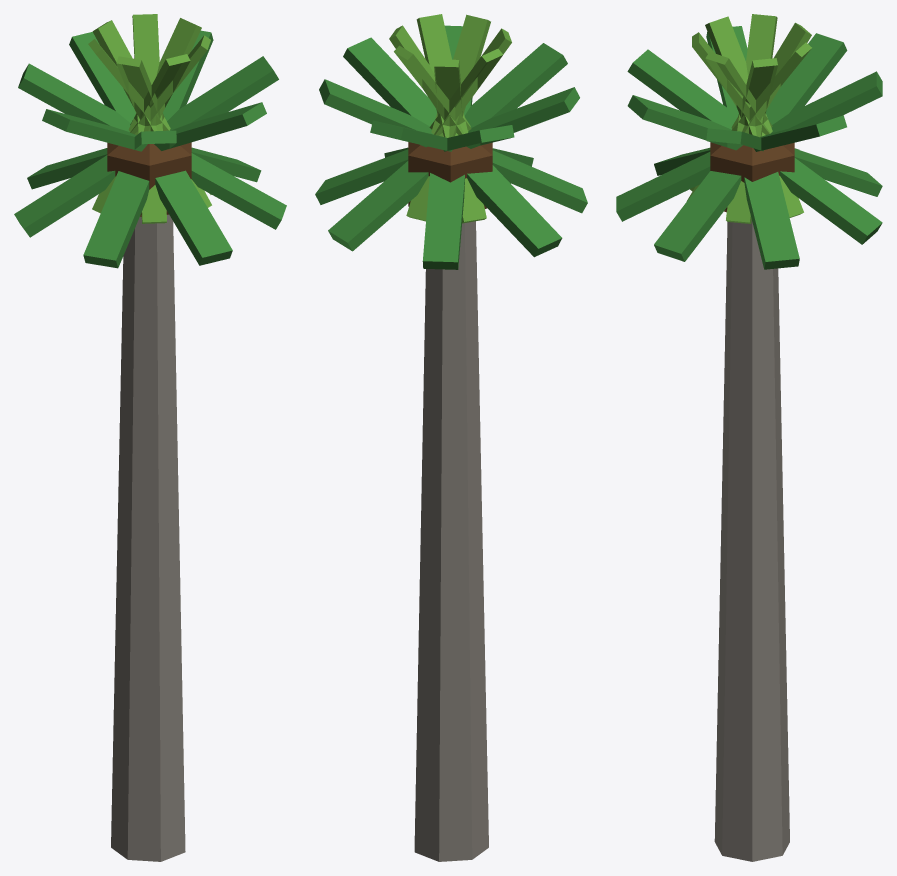
The model's file is palma_chilena.obj.
3 renders of one model, left to right at view 1: azimuth 30°, elevation 25°; view 2: azimuth 150°, elevation 25°; view 3: azimuth 270°, elevation 25°, orthographic.
Parts seen in each view (by area): view 1: palma_chilena; view 2: palma_chilena; view 3: palma_chilena.
Boxes of the visible parts, box(x1,y1,x2,y2) form: palma_chilena: box(14, 14, 286, 861); palma_chilena: box(315, 14, 587, 861); palma_chilena: box(616, 14, 882, 861).
Size of the model in its own units: 3.89 by 12.7 by 3.79.
